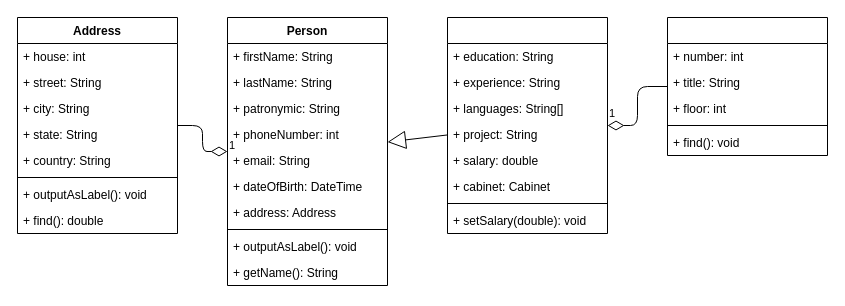
Some shapes in this 845 by 306 pixel diagram are drawn without their labels. The shapes that lost their labels are listed below. From the top down, each one's box as (x1, y1, x2, y2) in pixels, then its label:
(666, 16, 828, 156): Cabinet
(446, 16, 608, 234): Employee
